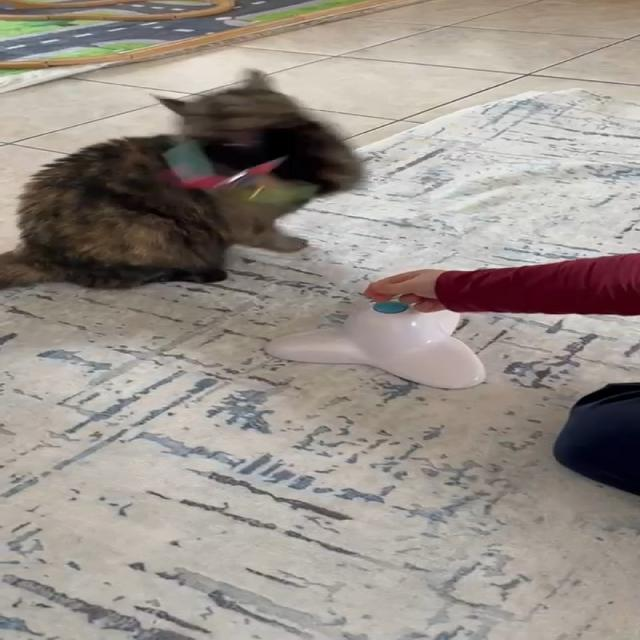authorized: (0, 67, 365, 290)
